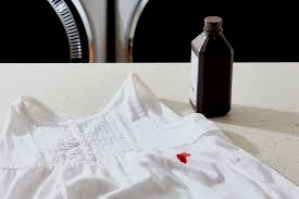blood: (175, 150, 192, 164)
